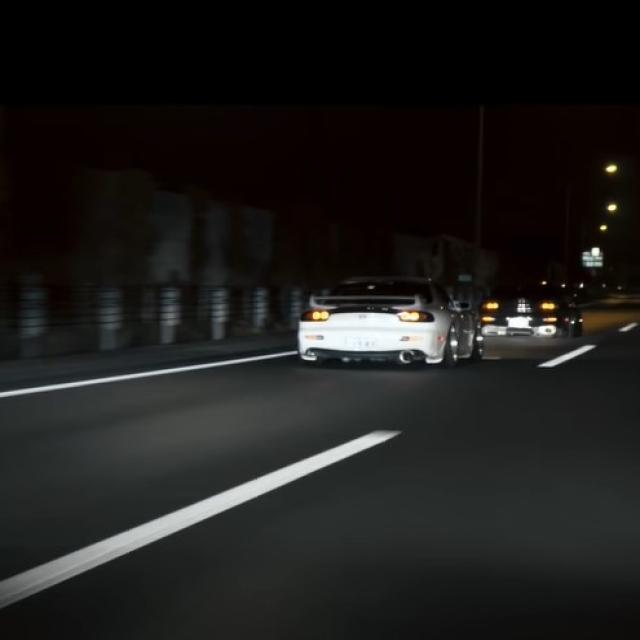car: (296, 275, 486, 370), (477, 282, 586, 337)
